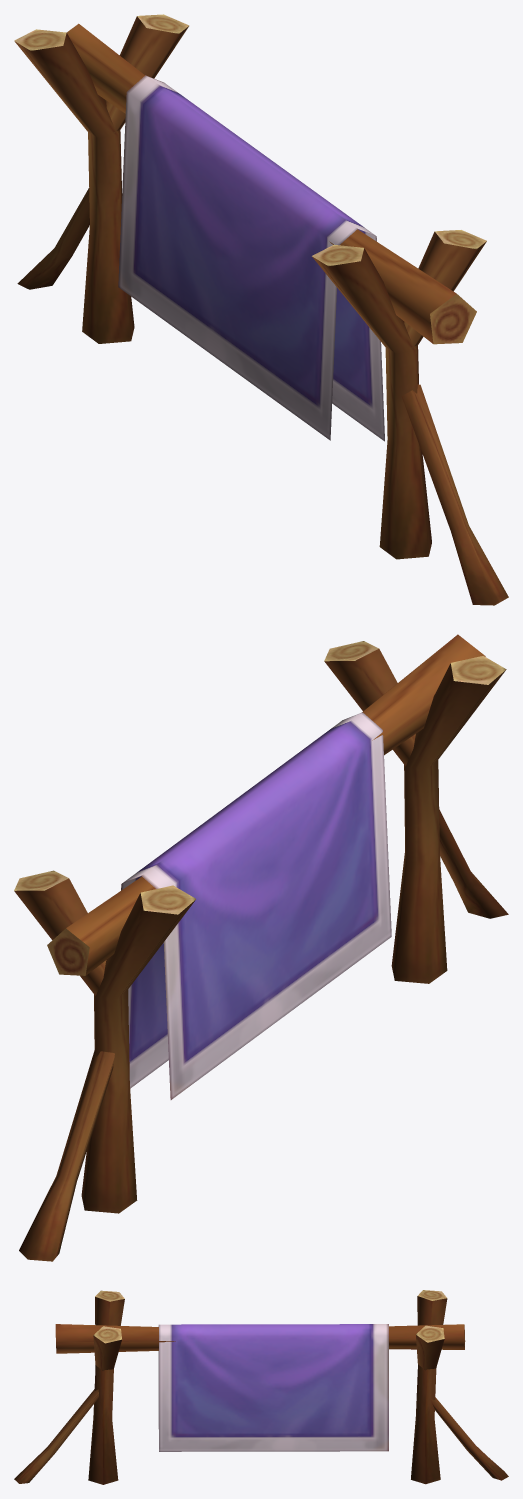
The model's file is taoyuanjiaowai_wuzi_02.FBX.
The picture shows the model from 3 angles, top to bottom: view 1: azimuth 30°, elevation 25°; view 2: azimuth 150°, elevation 25°; view 3: azimuth 270°, elevation 25°; orthographic projection. The views are drawn at different scales.
Visible parts, largest first — view 1: taoyuanjiaowai_wuzi_02; view 2: taoyuanjiaowai_wuzi_02; view 3: taoyuanjiaowai_wuzi_02.
Part boxes in pixels (bbox=[...]): taoyuanjiaowai_wuzi_02: bbox=[14, 14, 508, 605]; taoyuanjiaowai_wuzi_02: bbox=[14, 634, 508, 1261]; taoyuanjiaowai_wuzi_02: bbox=[14, 1290, 508, 1484].
Size of the model in its own units: 210 by 371 by 996.
